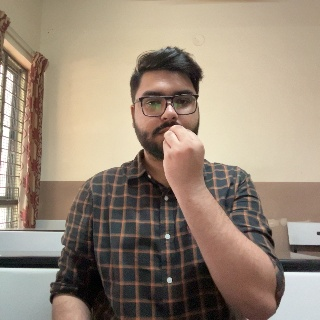Food: (161, 121, 211, 206)
